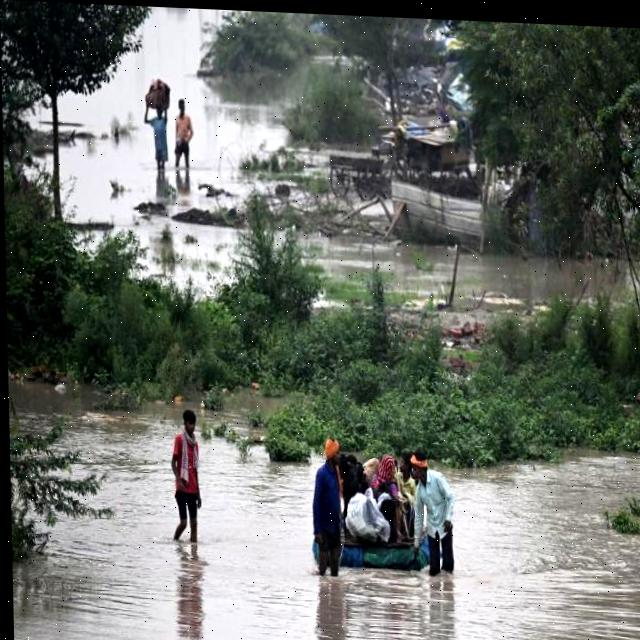civilian: (400, 439, 465, 583), (160, 395, 214, 566), (307, 428, 352, 599), (364, 450, 412, 542), (136, 84, 170, 177), (171, 95, 199, 182), (396, 436, 418, 535)
